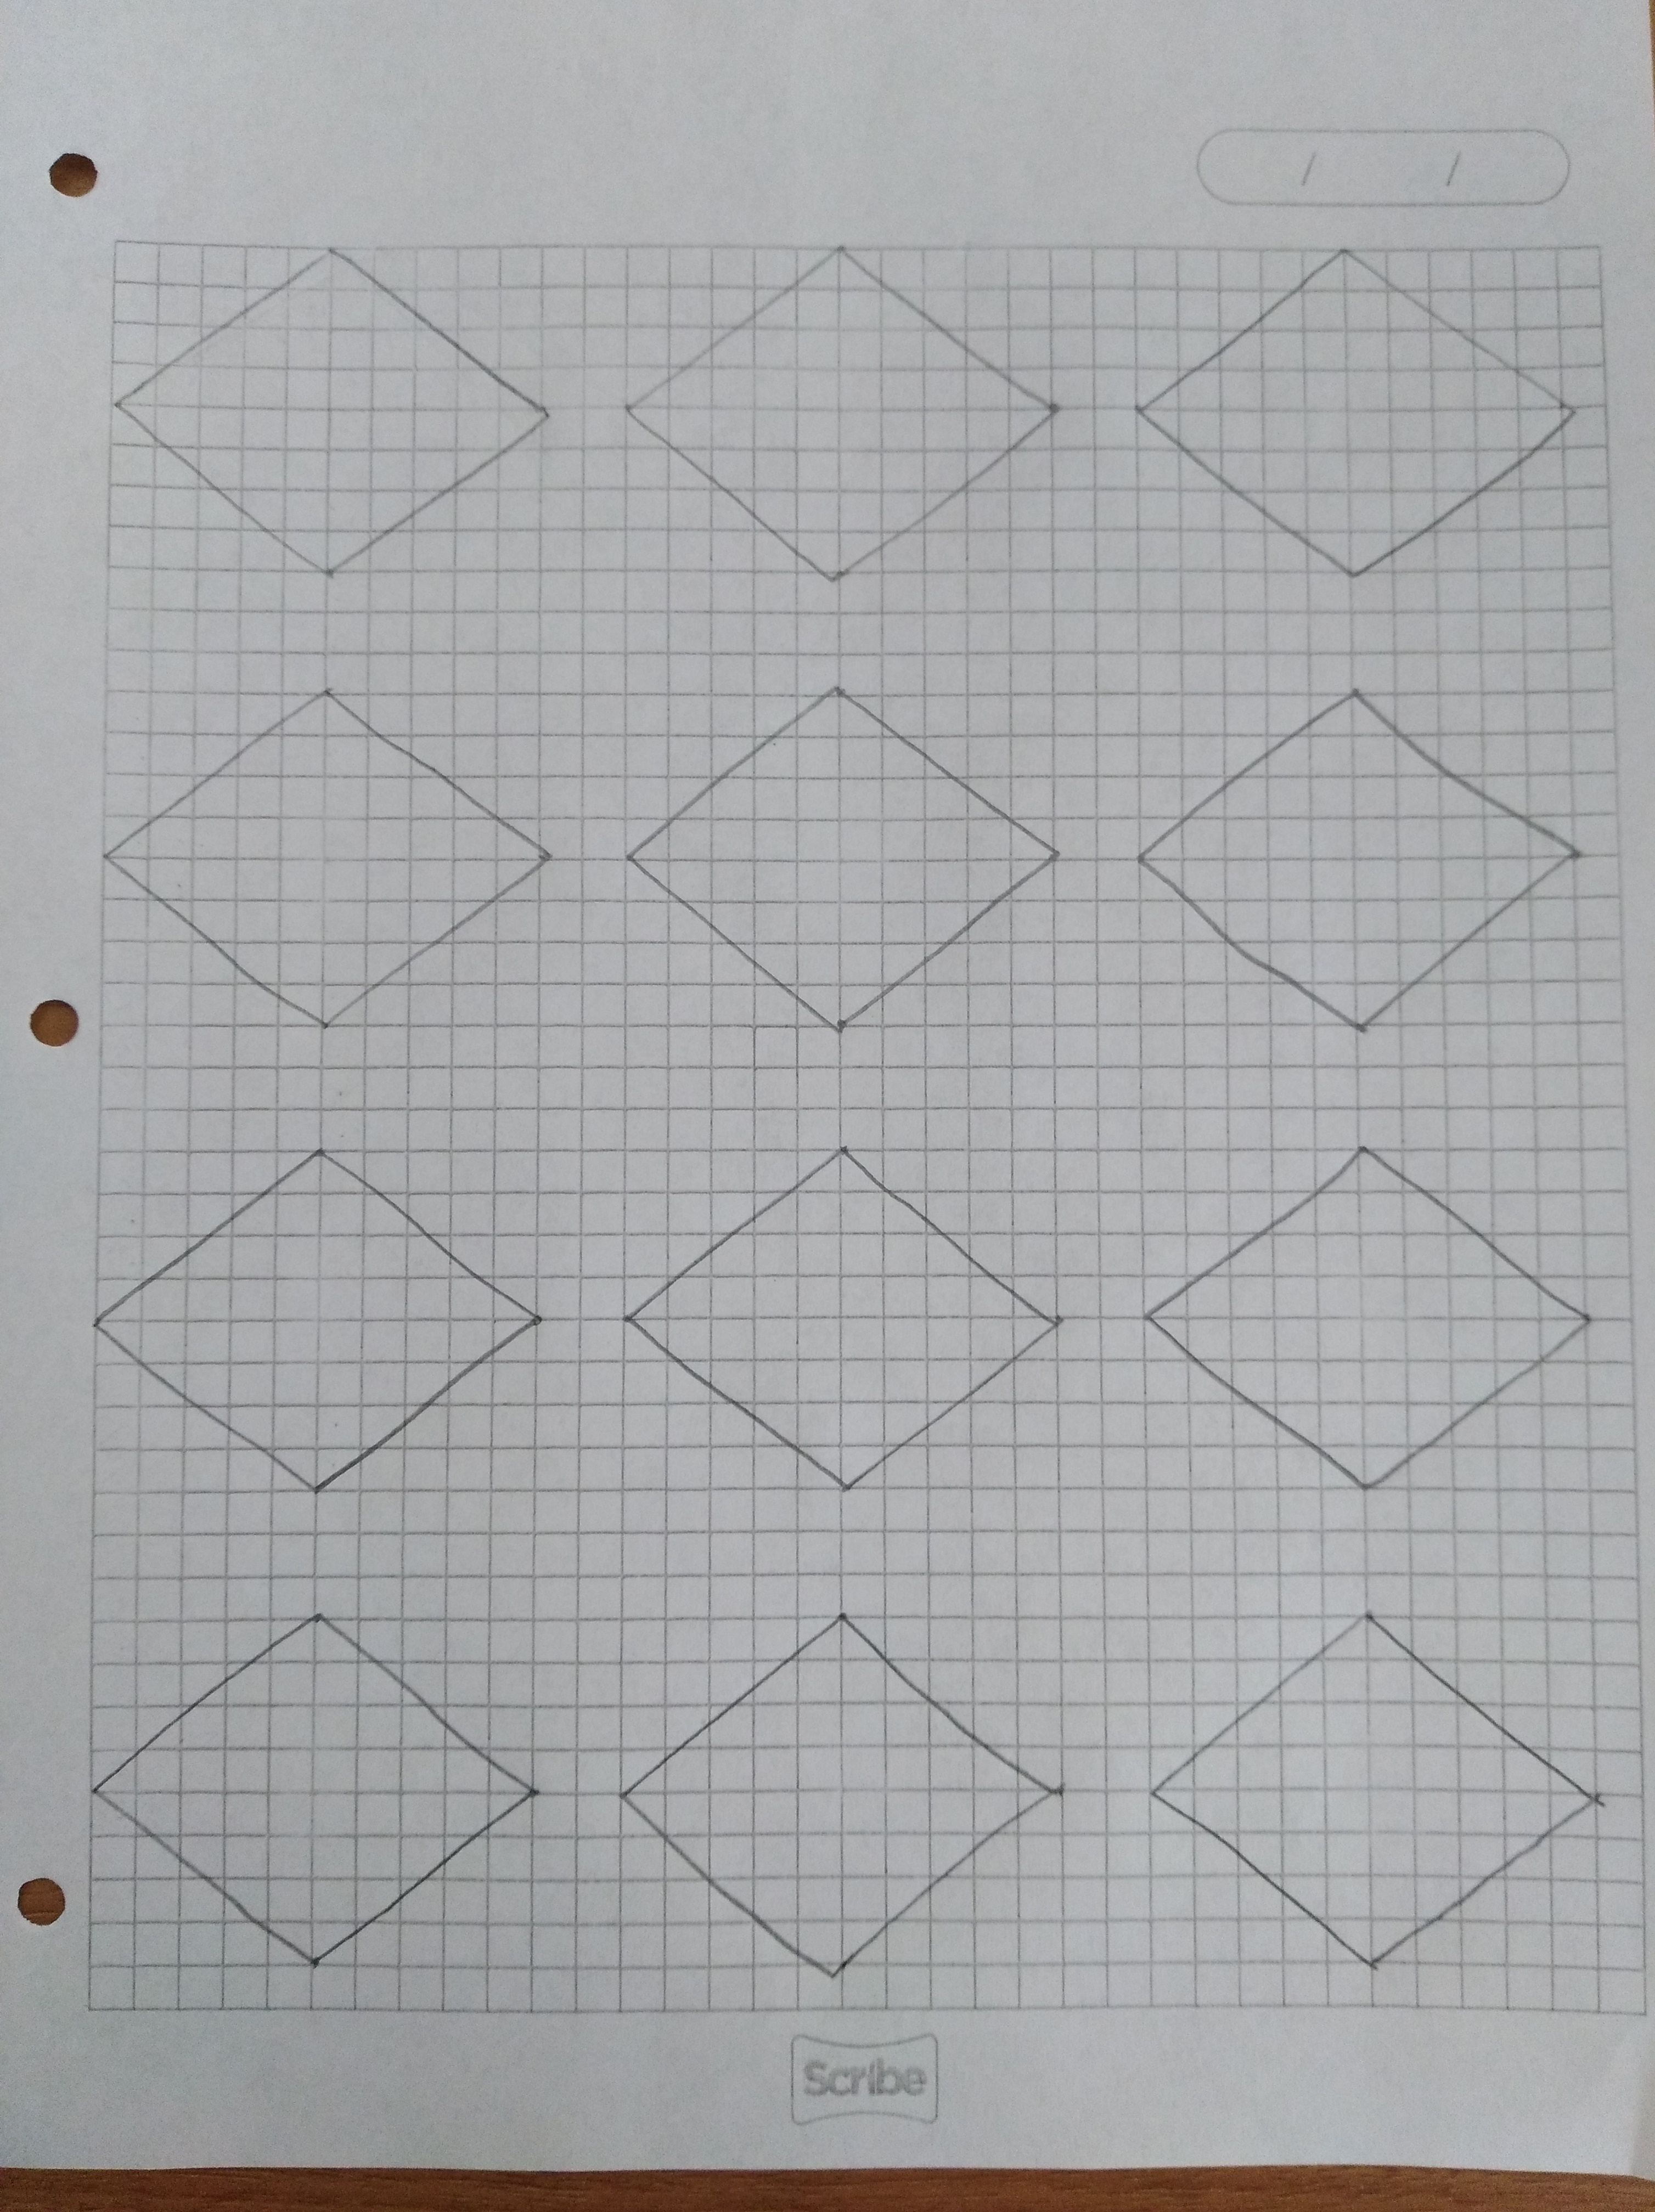decision: (1132, 1567, 1620, 2017), (600, 1566, 1081, 2017), (73, 1103, 565, 1527), (1121, 1110, 1620, 1522), (73, 1583, 565, 1988), (1114, 653, 1605, 1058), (595, 1110, 1076, 1519), (596, 217, 1081, 622), (603, 653, 1081, 1058), (92, 657, 567, 1053), (1118, 221, 1598, 608), (97, 221, 575, 603)
